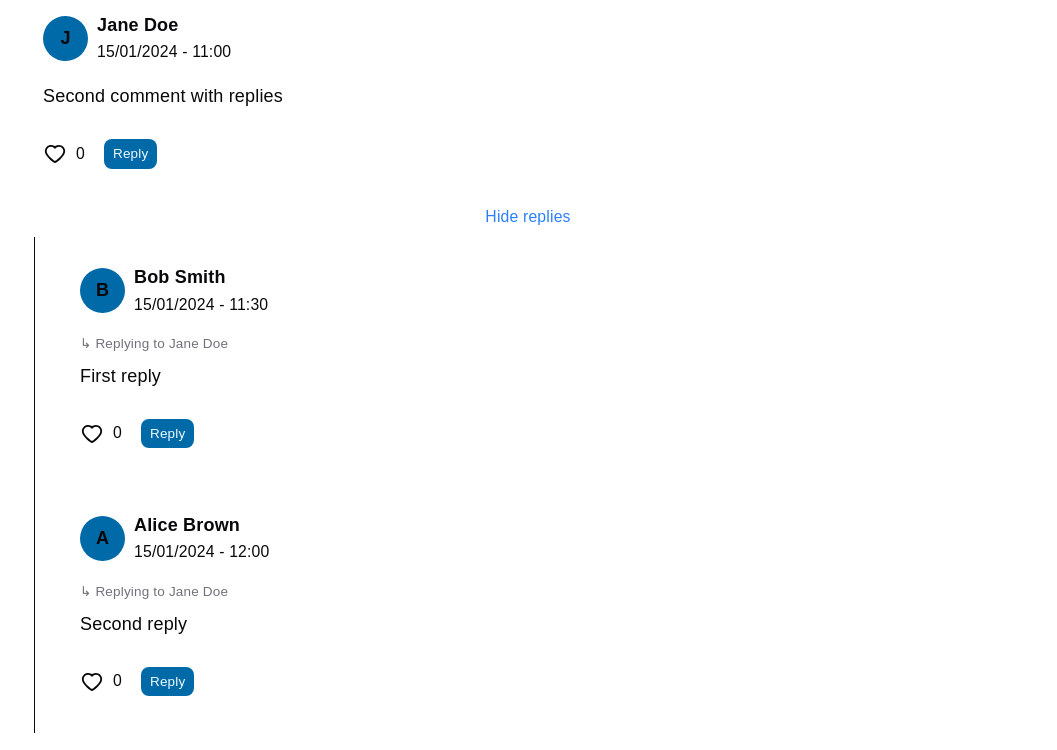
Test: CommentTree › hide/show replies functionality › should hide replies when 'Hide replies' button is clicked
Click the button "Hide replies" at (528, 217), box [16,206,1040,228]
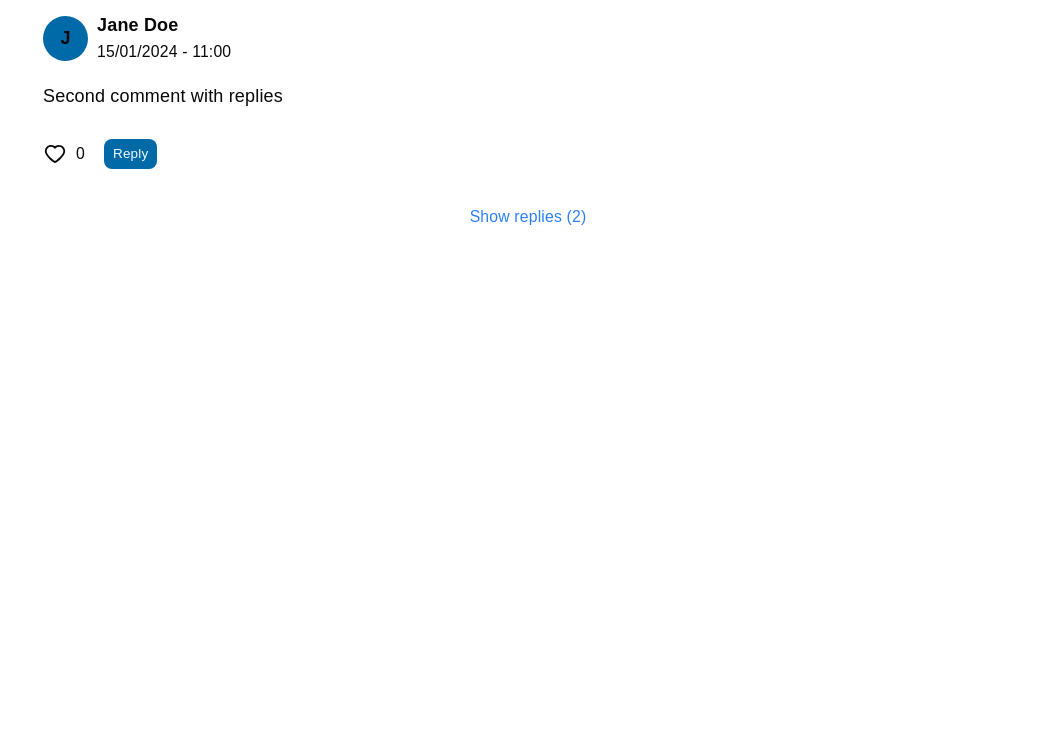
Check: the text "First reply" is gone
Check: the text "Second reply" is gone
Check: the button "Show replies (2)" is shown, box [16,206,1040,228]
